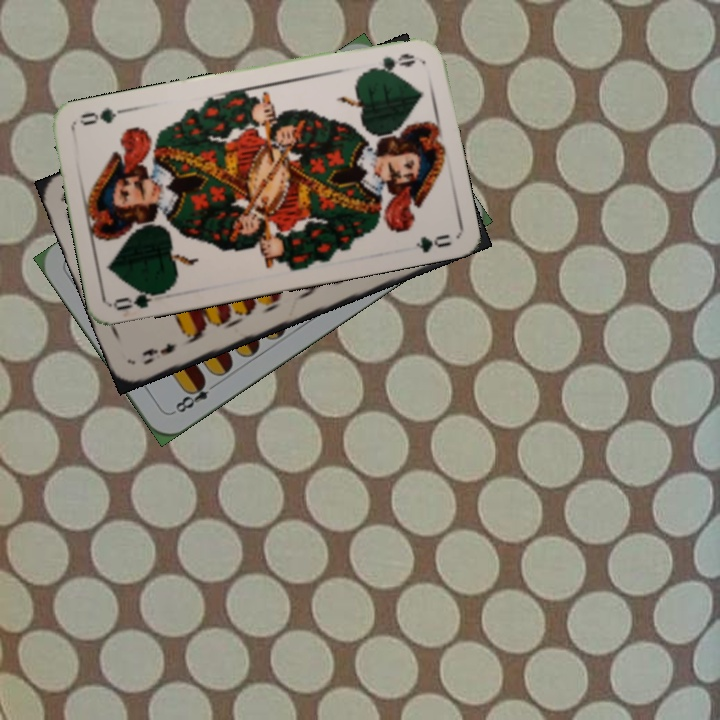E8: (168, 375, 221, 417)
E9: (138, 339, 180, 368)
GO: (111, 285, 169, 313), (361, 49, 418, 76)
